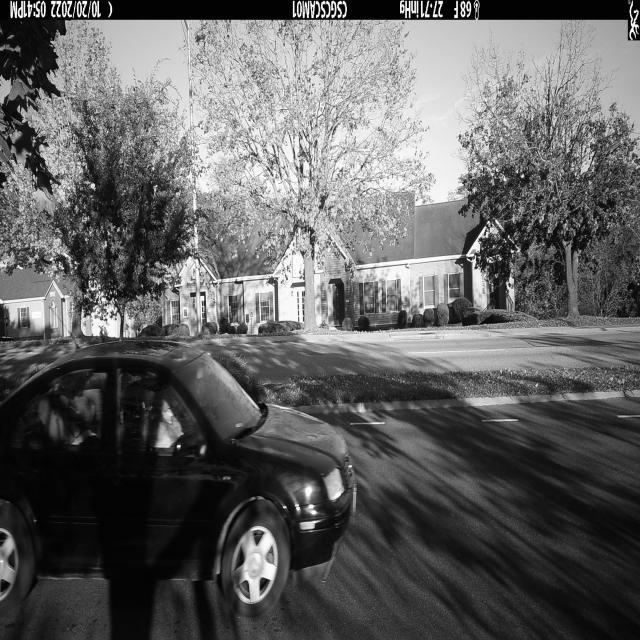Sedan: (0, 342, 355, 627)
